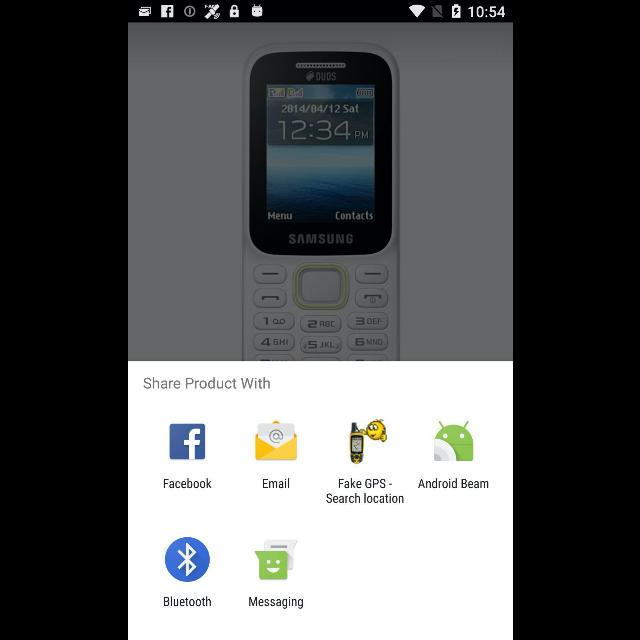icon: (164, 536, 210, 582), (169, 424, 205, 460)
image: (240, 42, 400, 360), (348, 418, 386, 464), (255, 540, 298, 580), (254, 420, 296, 460), (433, 421, 473, 462)
panel: (128, 362, 512, 640)
text: (325, 478, 403, 504), (143, 377, 270, 389), (418, 478, 488, 488), (248, 597, 302, 609), (163, 478, 211, 488), (163, 596, 210, 606), (262, 478, 288, 488)
uppertaskbar: (128, 1, 512, 23)
